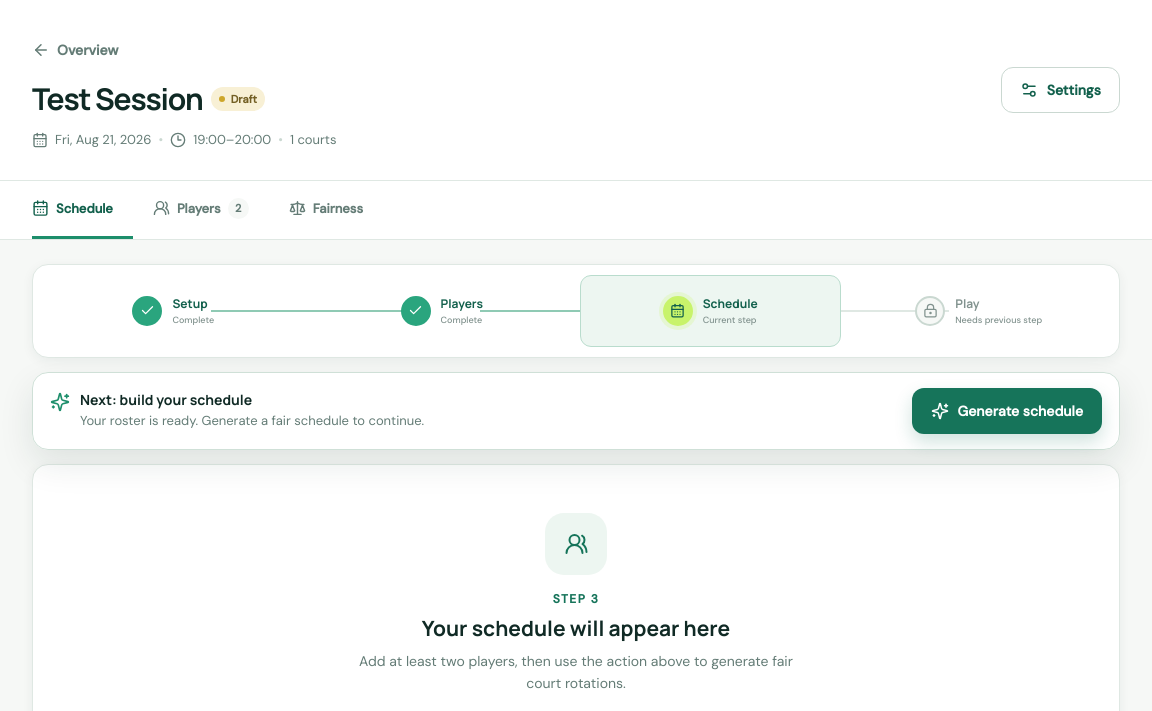
Test case: SessionPage lifecycle › shows the backend field error returned with a 422 response
Click the button "Generate schedule" at (1007, 410), box [912,388,1102,434]
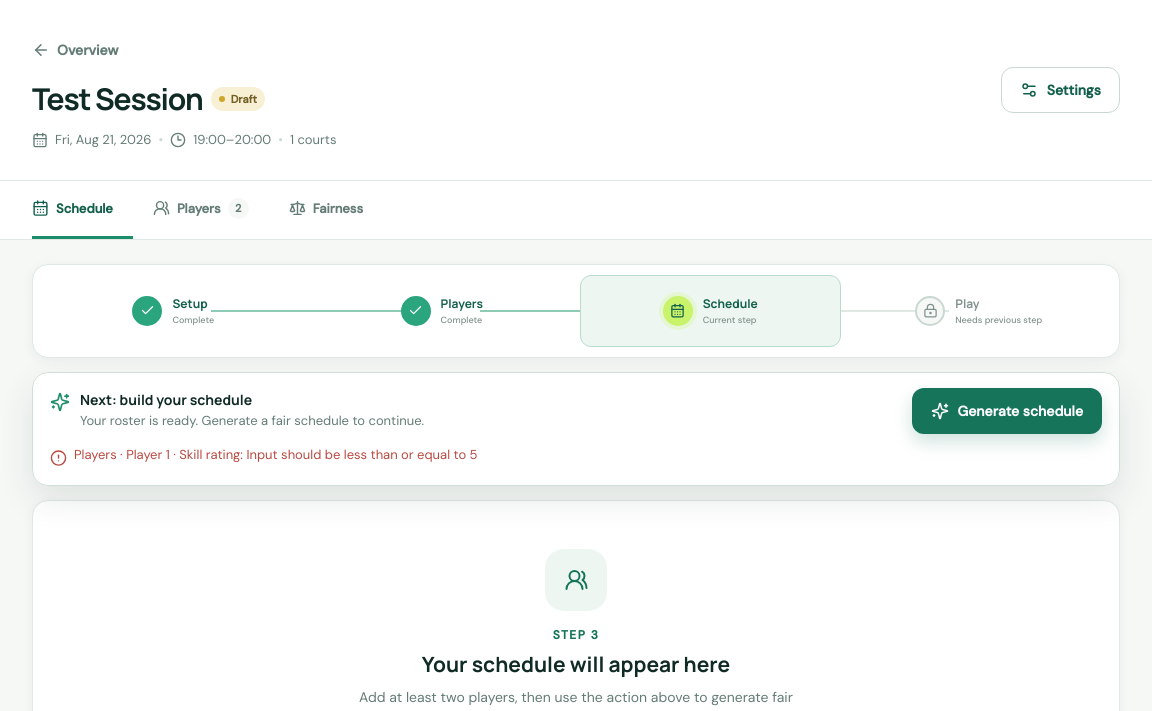
Expected: the message reads "Players · Player 1 · Skill rating: Input should be less than or equal to 5", [74,446,478,462]
